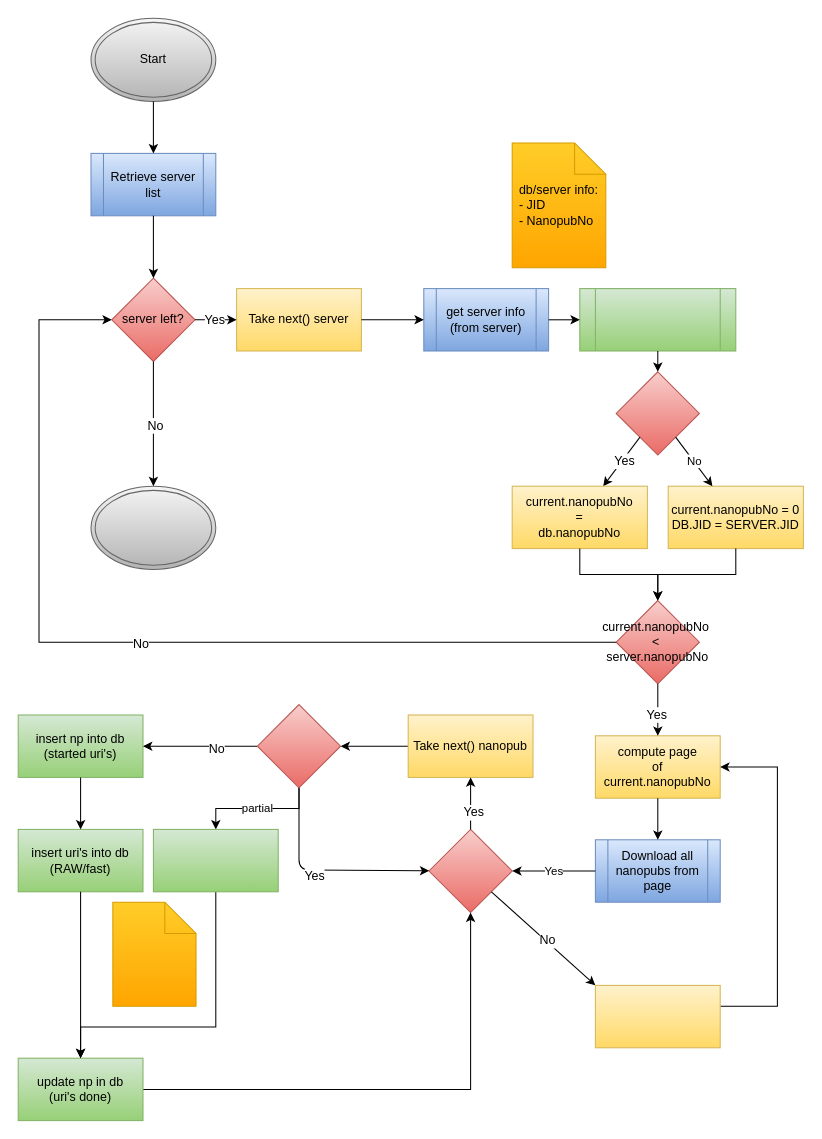
The diagram is 822 pixels wide and 1139 high, and some of its shapes have lost their labels. Each missing label, with the centre of its shape:
current.nanopubNo += #np's on page: pixel 657 1016
finish: pixel 153 527
get server info (from db): pixel 657 319
Insert - Assertion - Provenance - Pubinfo: pixel 154 953
insert uri's into db (SAFE/slower): pixel 215 860
nanopub left on page?: pixel 470 870
np in db?: pixel 298 746
SERVERJID == DB.JID: pixel 657 413
